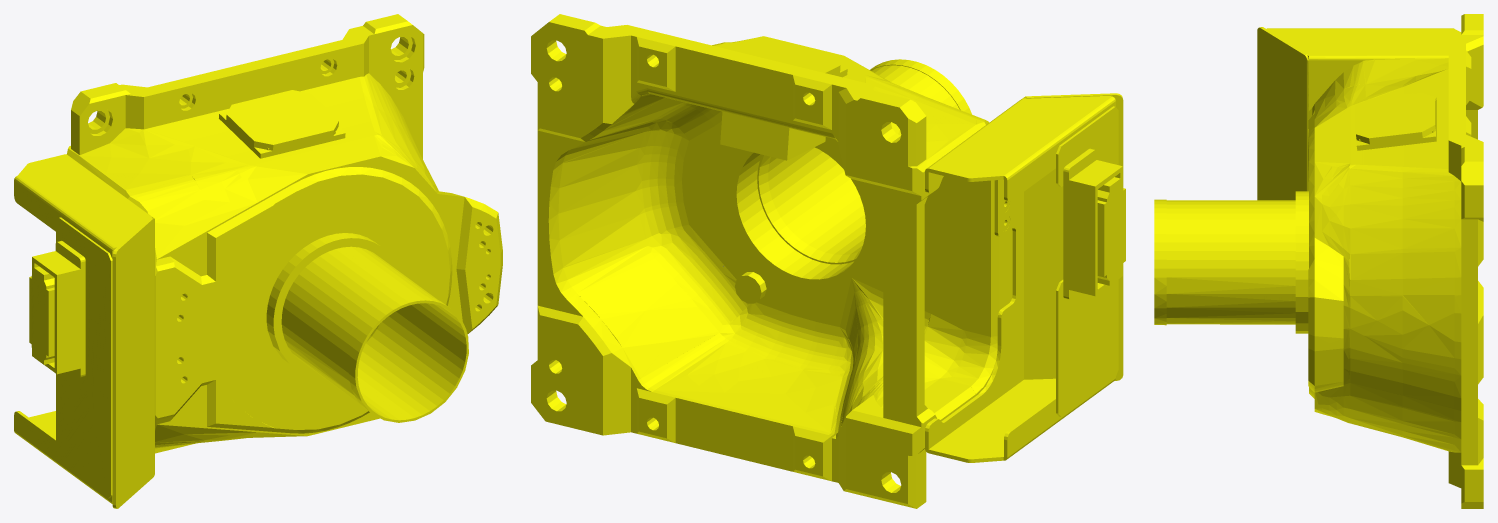
3 views of the same model, side by side, from view 1: azimuth 30°, elevation 25°; view 2: azimuth 150°, elevation 25°; view 3: azimuth 270°, elevation 25° (orthographic). The views are drawn at different scales.
Visible parts, largest first — view 1: node; view 2: node; view 3: node.
Part boxes in pixels (x1,y1,x2,y2): node: [14, 14, 502, 508]; node: [531, 14, 1125, 508]; node: [1154, 14, 1483, 508].
Bounding box in the file's own units: 448 × 343 × 296.
